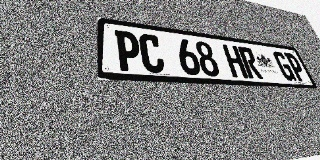6: (175, 38, 202, 76)
8: (194, 40, 221, 77)
C: (138, 33, 166, 74)
G: (272, 51, 297, 81)
H: (222, 44, 249, 78)
P: (115, 30, 142, 72), (284, 53, 309, 82)
R: (237, 46, 263, 79)
